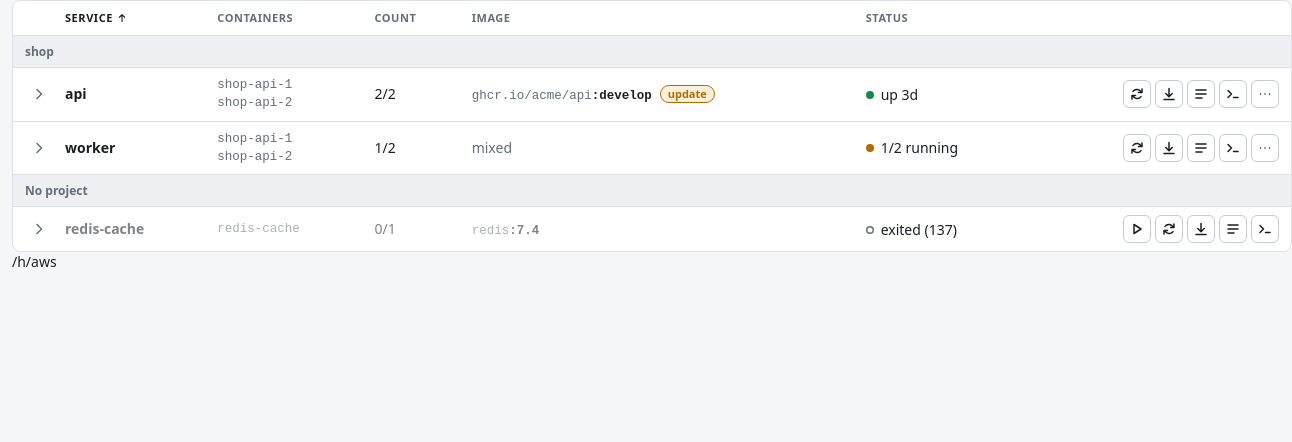
Test: the log under a row › several rows can be open at once, each following its own service
Click the button named "Show logs of api" at (39, 94), box [25,80,53,108]
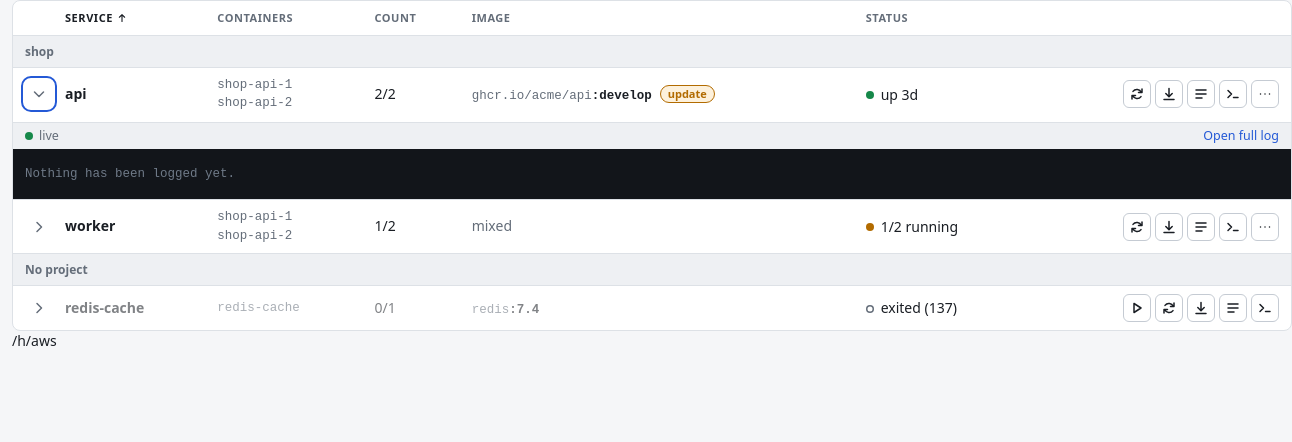
Click the button named "Show logs of worker" at (39, 227), box [25,213,53,241]
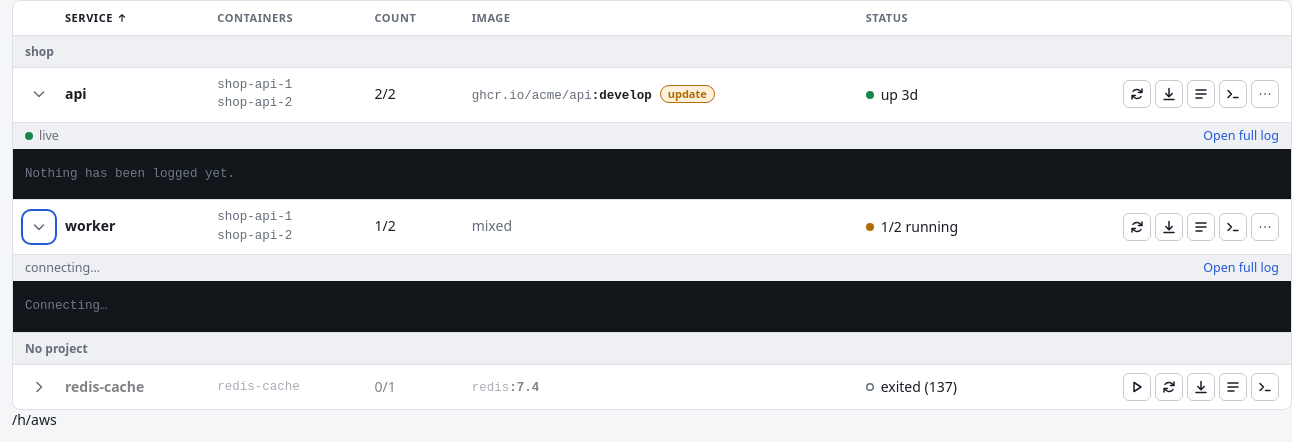
Expected: the element named "Logs of api" is shown, [13,122,1291,200]
Expected: the element named "Logs of worker" is shown, [13,254,1291,332]
